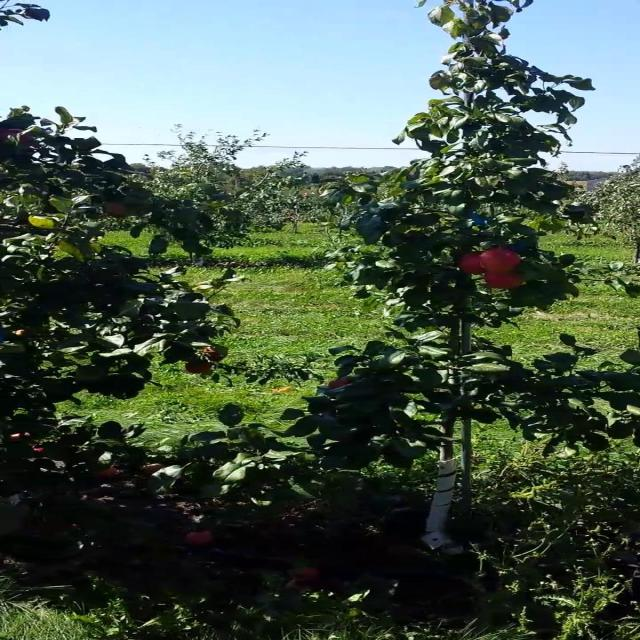apple: (483, 248, 521, 272), (483, 272, 526, 291), (461, 256, 489, 276), (6, 128, 34, 145), (184, 360, 213, 376), (92, 464, 121, 480), (198, 348, 224, 363), (6, 432, 34, 444), (106, 204, 128, 217), (326, 380, 354, 389)
